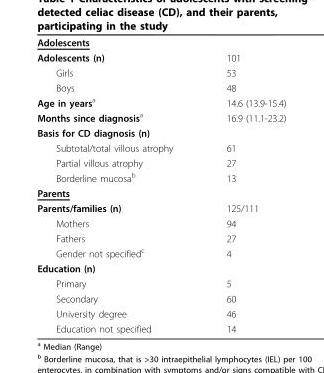table: (36, 36, 285, 334)
table column: (36, 36, 199, 334), (199, 36, 285, 334)
table projected row header: (36, 125, 285, 140), (36, 185, 285, 200), (36, 260, 285, 275), (36, 36, 285, 49)
table row: (36, 109, 285, 125), (36, 169, 285, 185), (36, 244, 285, 260), (36, 49, 285, 64), (36, 64, 285, 79), (36, 79, 285, 94), (36, 94, 285, 109), (36, 125, 285, 140), (36, 140, 285, 155), (36, 185, 285, 200), (36, 200, 285, 215), (36, 215, 285, 230), (36, 260, 285, 275), (36, 275, 285, 290), (36, 290, 285, 305), (36, 305, 285, 320), (36, 155, 285, 169), (36, 230, 285, 244), (36, 320, 285, 334), (36, 36, 285, 49)
